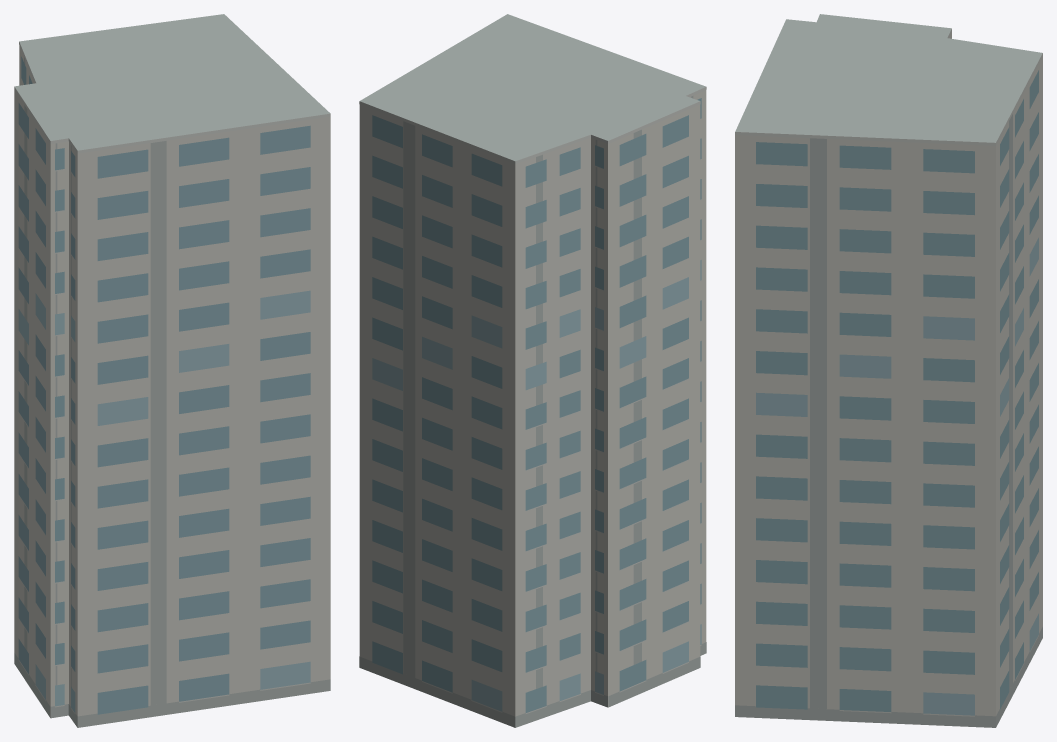
File: residential-7edd25a1-dc22-4e06-8c9e-c761630d46db.glb
3 views of the same model, side by side, from view 1: azimuth 30°, elevation 25°; view 2: azimuth 150°, elevation 25°; view 3: azimuth 270°, elevation 25° (orthographic). The views are drawn at different scales.
Visible parts, largest first — view 1: residential-7edd25a1-dc22-4e06-8c9e-c761630d46db.tmp; view 2: residential-7edd25a1-dc22-4e06-8c9e-c761630d46db.tmp; view 3: residential-7edd25a1-dc22-4e06-8c9e-c761630d46db.tmp.
Boxes of the visible parts, box(x1,y1,x2,y2) form: residential-7edd25a1-dc22-4e06-8c9e-c761630d46db.tmp: box(14, 14, 330, 727); residential-7edd25a1-dc22-4e06-8c9e-c761630d46db.tmp: box(359, 14, 706, 727); residential-7edd25a1-dc22-4e06-8c9e-c761630d46db.tmp: box(735, 14, 1042, 727).
Size of the model in its own units: 21.27 by 45 by 21.46.
